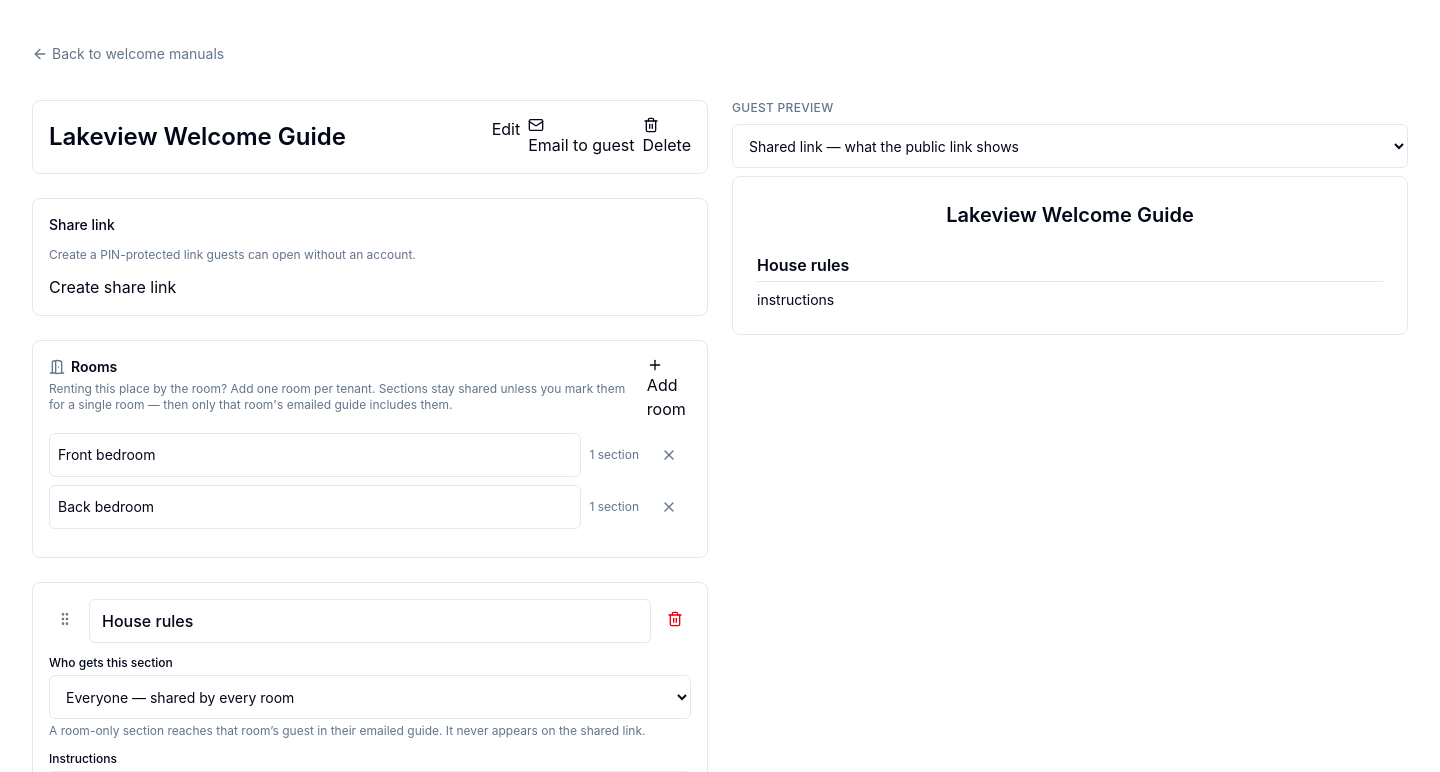
it: WelcomeManualDetail › preview scope › adds only the chosen room's own sections when previewing their PDF
Select "Front bedroom — their emailed PDF" in the dropdown with test id "welcome-manual-preview-scope". click: {"x": 1070, "y": 146}
box: [732,124,1408,168]
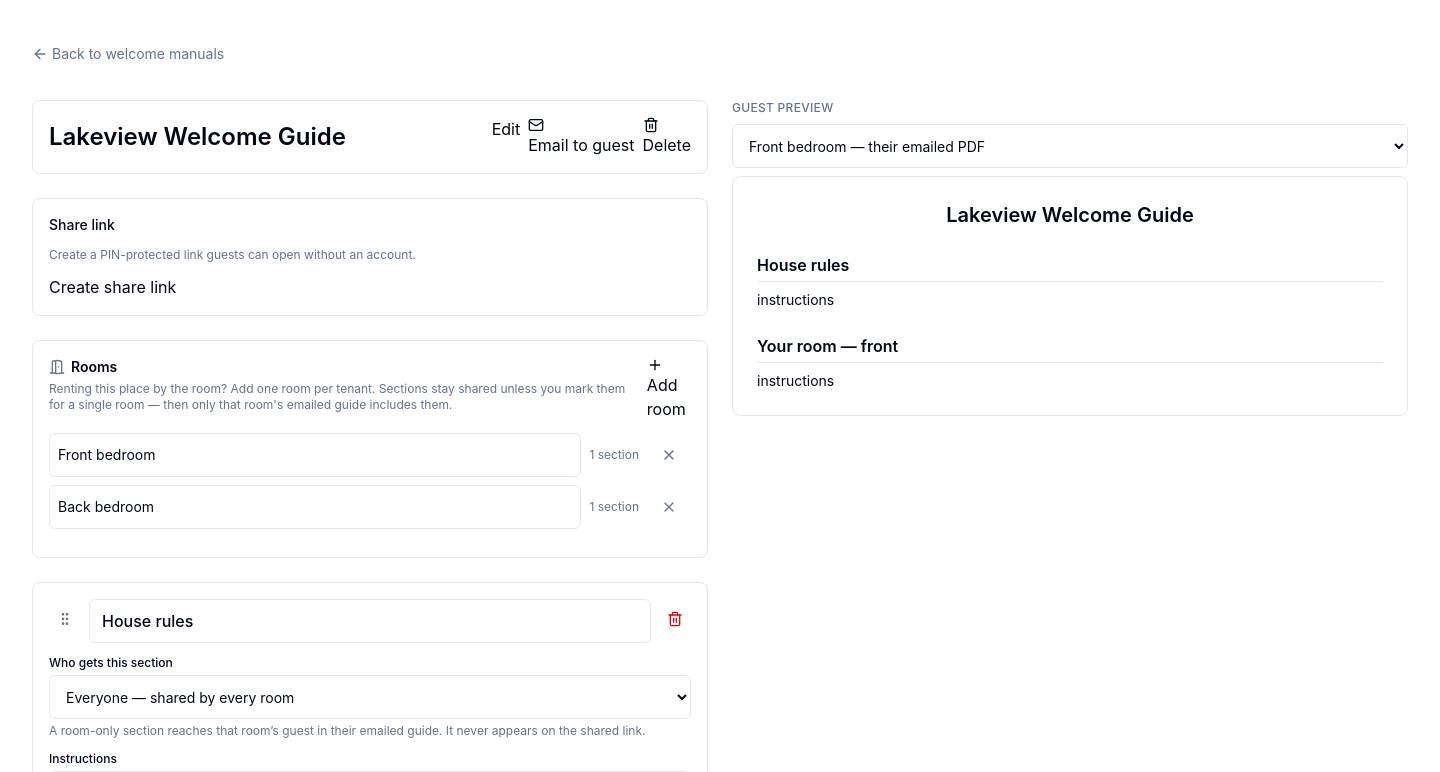
Expected: the number of elements with test id "welcome-manual-preview-section" is 2, [757,253,1383,310]; [757,334,1383,391]
